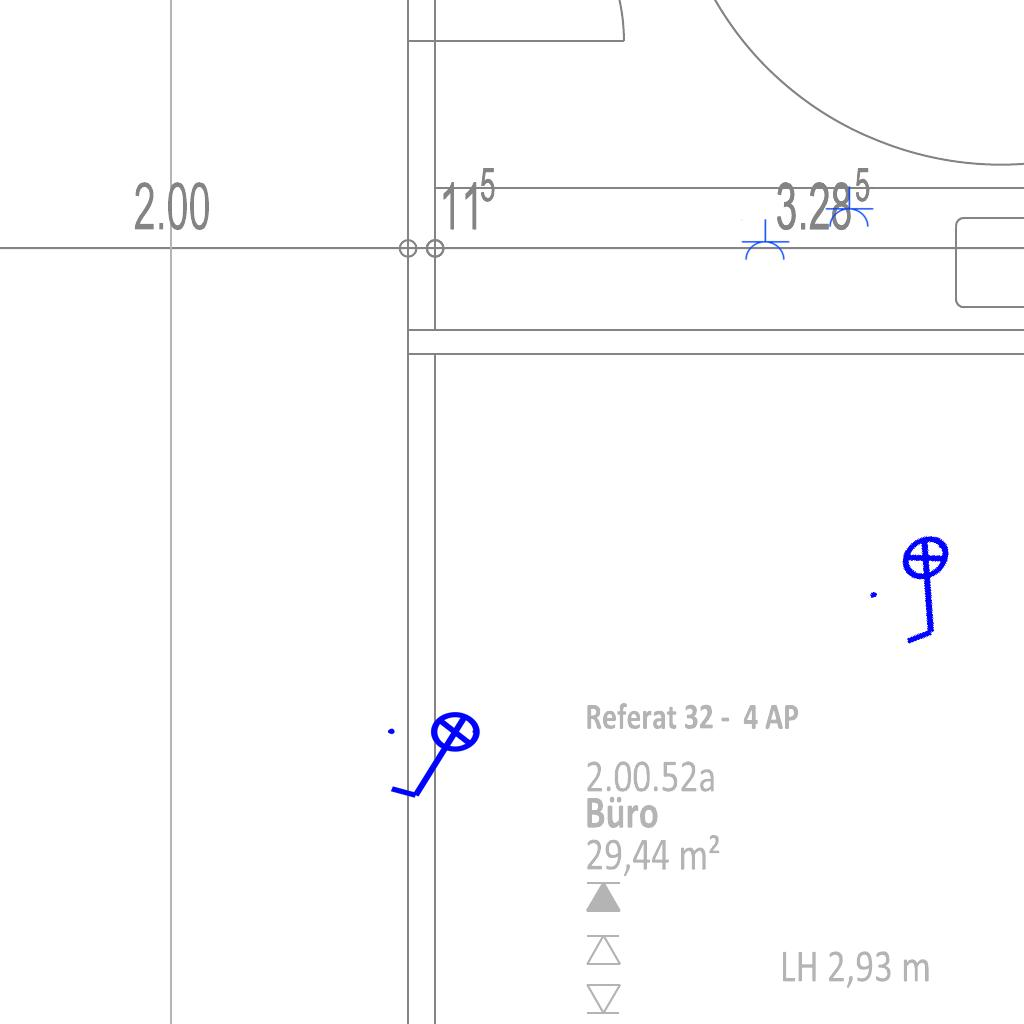Ausschalter_beleuchtet: (853, 517, 1001, 661), (382, 710, 494, 806)
Schukosteckdose_einfach: (824, 186, 874, 229), (740, 219, 790, 262)
